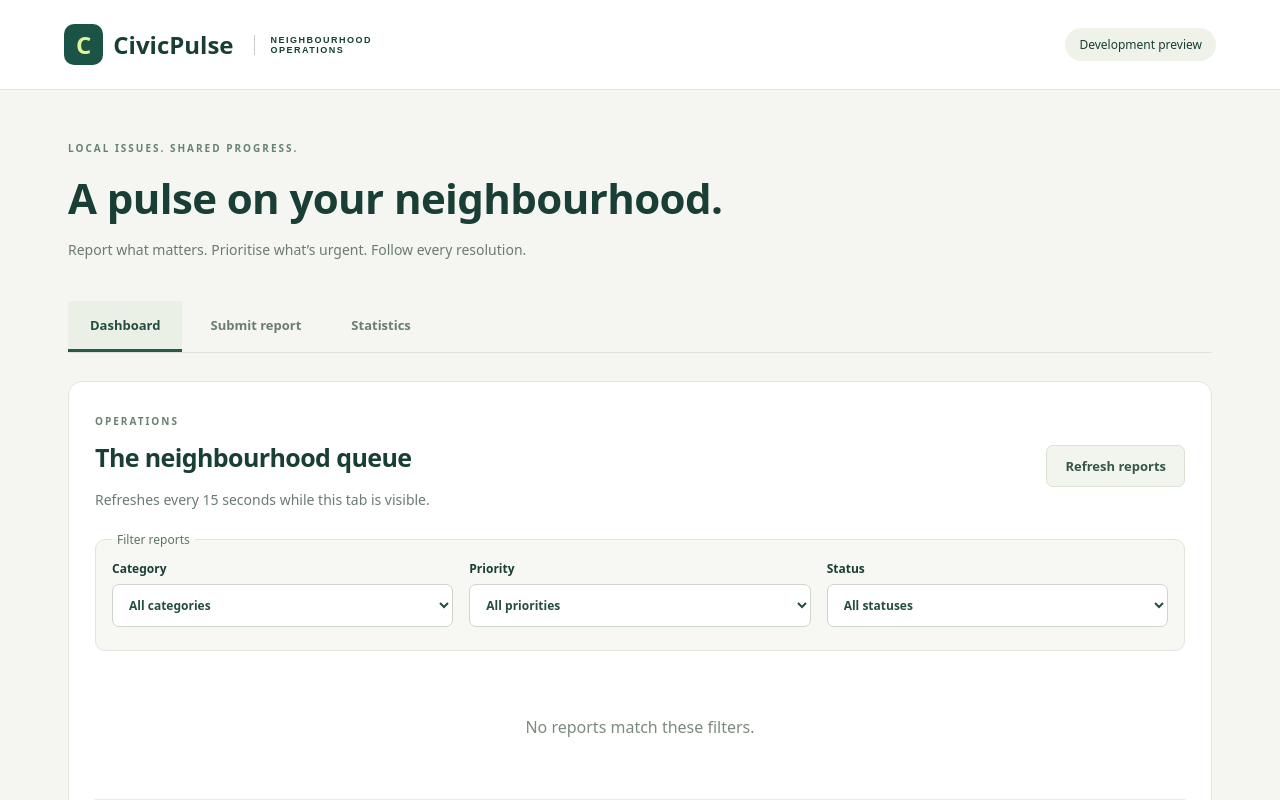
Test case: frontend foundation › navigates to the statistics view
Click the button "Statistics": (381, 326) [329,301,433,352]
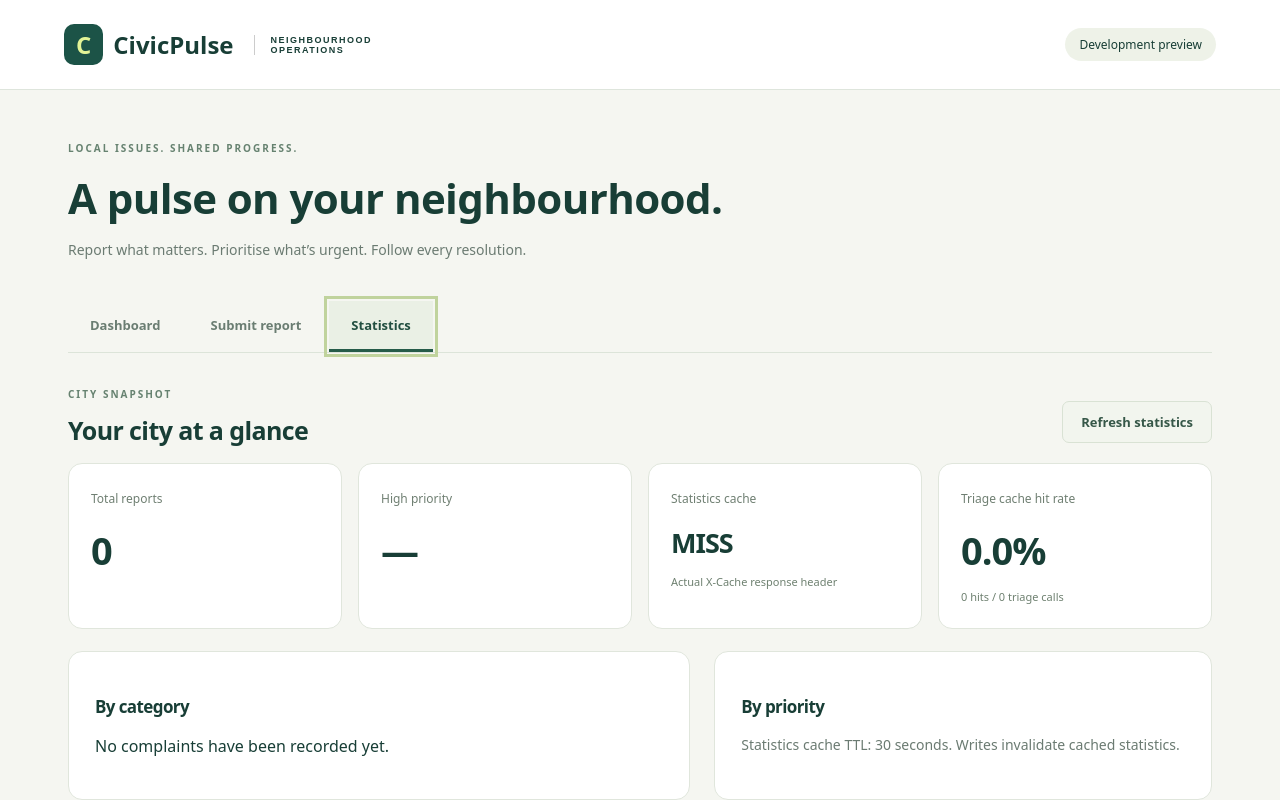
Expected: the heading "Your city at a glance" is shown, [68,413,308,447]
